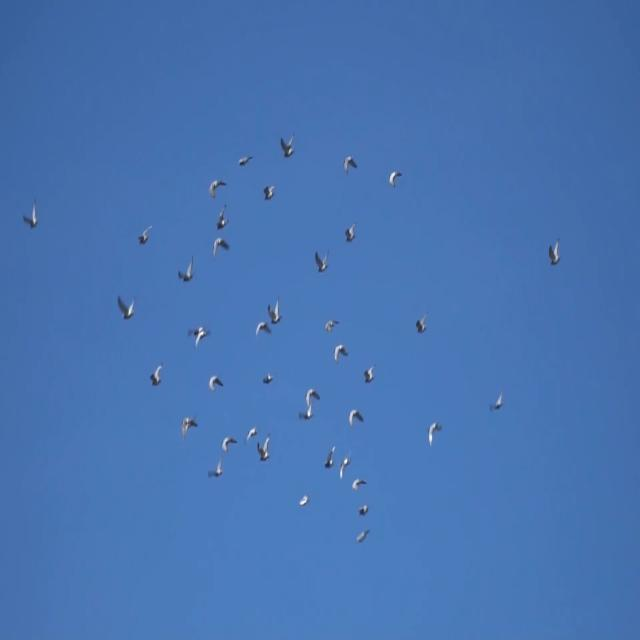bird: (184, 320, 212, 352), (424, 416, 446, 453), (115, 291, 139, 323), (174, 253, 198, 284), (177, 414, 201, 444), (21, 194, 39, 233), (546, 234, 564, 270), (265, 293, 284, 325), (279, 130, 298, 162), (148, 360, 168, 390), (214, 200, 232, 233), (413, 306, 430, 339), (337, 451, 354, 484), (256, 432, 274, 463), (210, 236, 233, 260), (207, 175, 229, 200), (488, 389, 507, 416), (342, 152, 361, 179), (136, 221, 155, 248), (321, 442, 337, 474), (296, 402, 319, 424), (386, 166, 404, 194), (206, 454, 226, 479), (346, 403, 365, 429), (304, 384, 323, 410), (314, 245, 330, 275), (206, 369, 225, 394), (362, 360, 378, 389), (253, 318, 275, 339), (234, 150, 255, 172), (344, 216, 359, 244), (353, 526, 372, 548), (332, 342, 351, 364), (262, 180, 278, 204), (260, 367, 276, 390), (322, 315, 341, 334), (220, 434, 238, 454), (243, 425, 260, 445), (350, 476, 368, 493), (297, 492, 314, 508), (358, 502, 370, 518)
